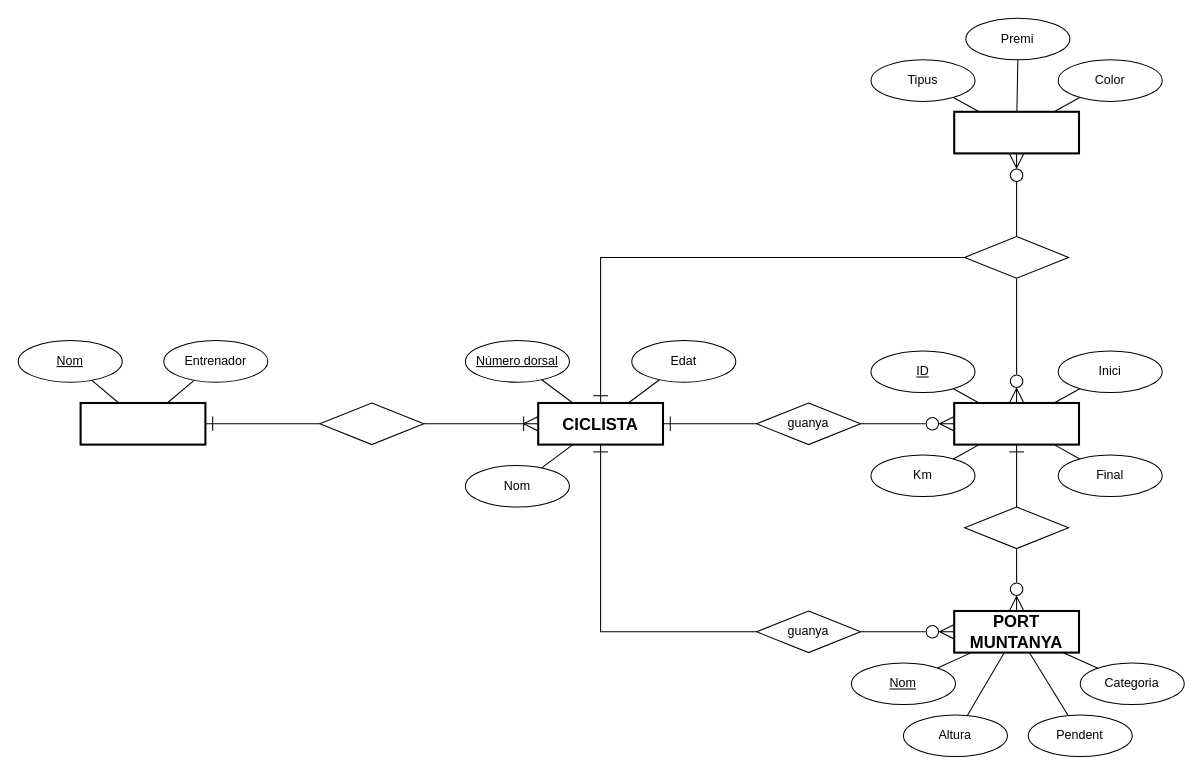
The diagram is 1203 pixels wide and 775 high, and some of its shapes have lost their labels. The shapes that lost their labels are listed below. From the top down, each one's box as (x1, y1, x2, y2) in pixels, then its label:
(953, 110, 1080, 154): MALLOT
(964, 236, 1069, 278): porta
(79, 401, 206, 445): EQUIP
(319, 402, 424, 445): pertany
(953, 401, 1080, 445): ETAPA
(964, 506, 1069, 549): conté
